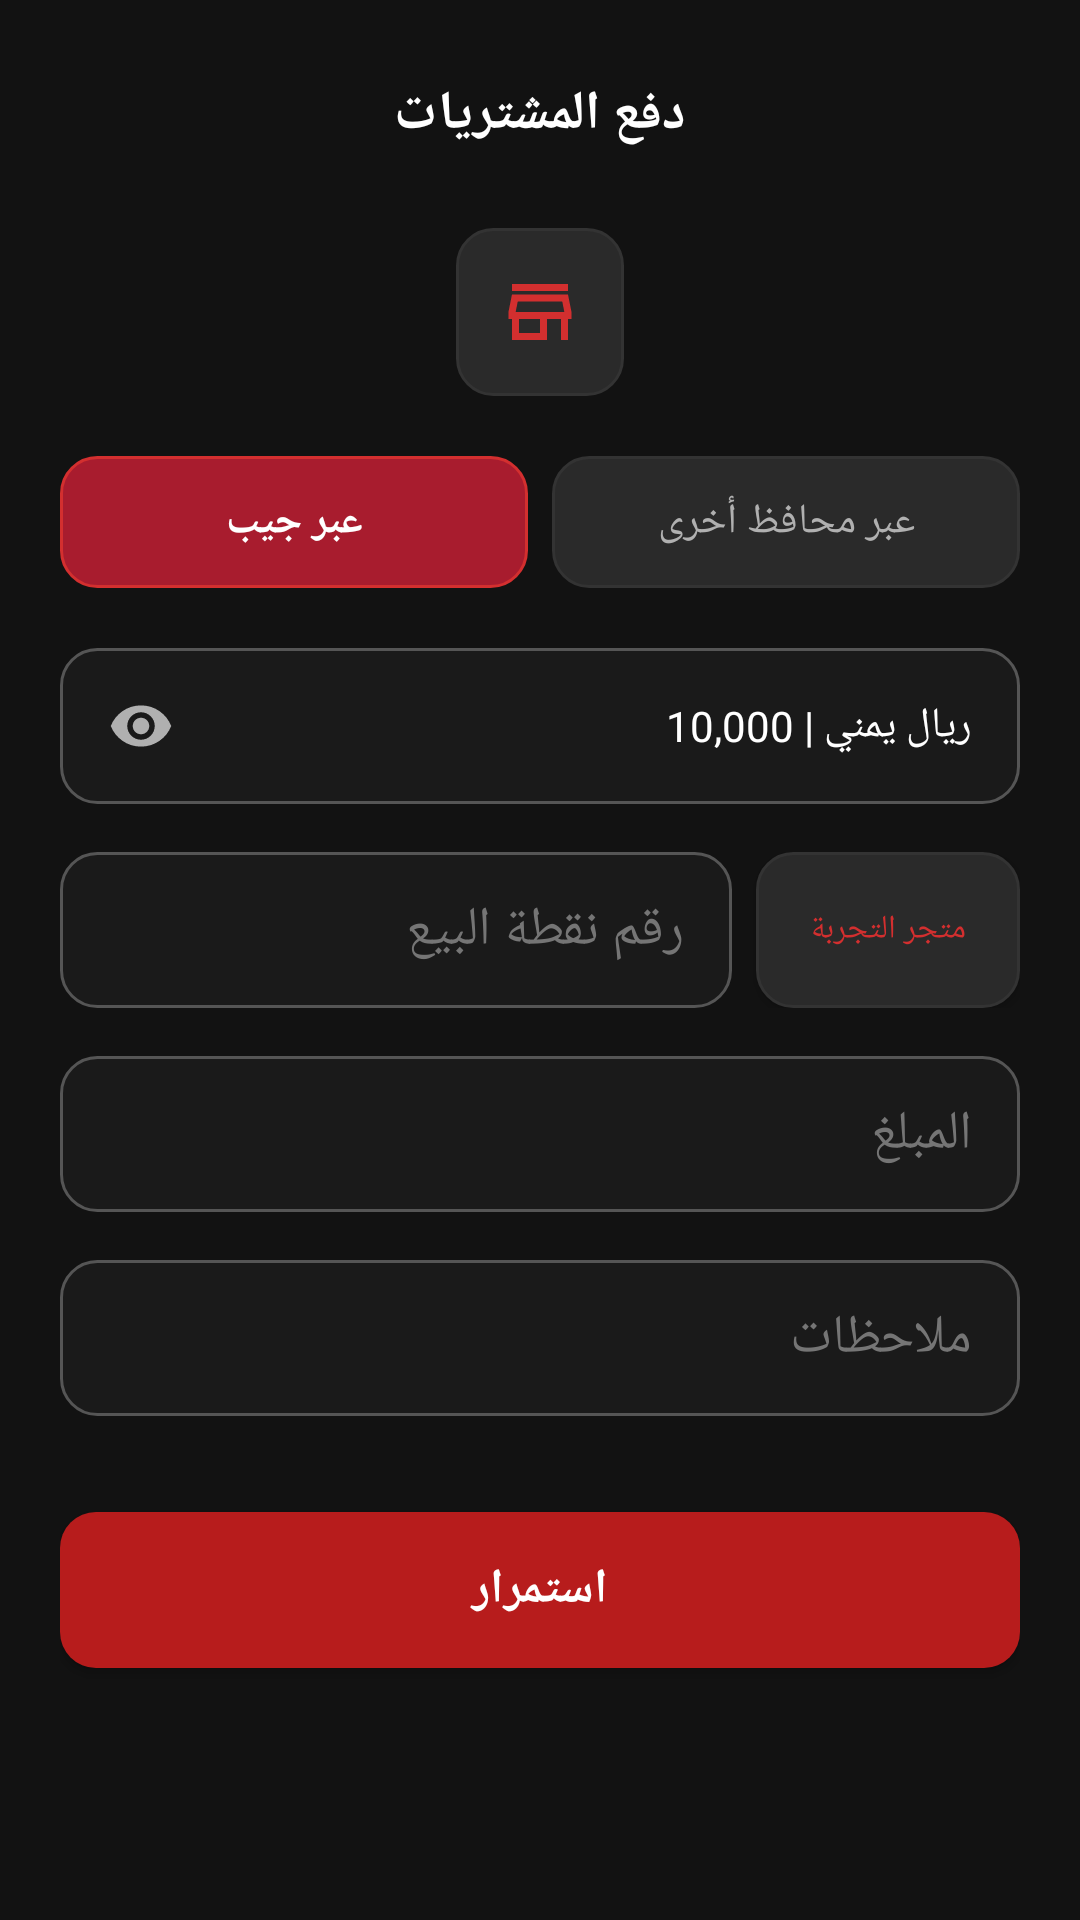

Screen size 1080w x 1920h. Icon name, then its box in pixels as (x1, y1, x2, y2):
eye: (111, 705, 171, 747)
pos: (508, 284, 572, 340)
